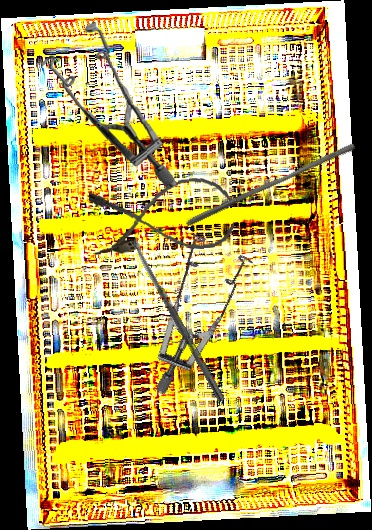Cannula: (88, 174, 236, 259)
Pusher: (184, 136, 357, 234)
Speculum: (95, 214, 286, 397), (39, 18, 176, 194)
Surgical Spoon: (129, 237, 227, 403)
